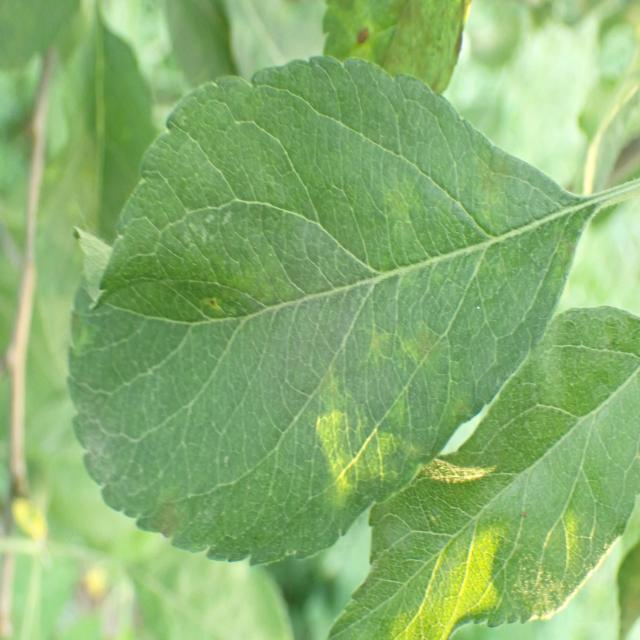scab: (82, 144, 539, 533)
